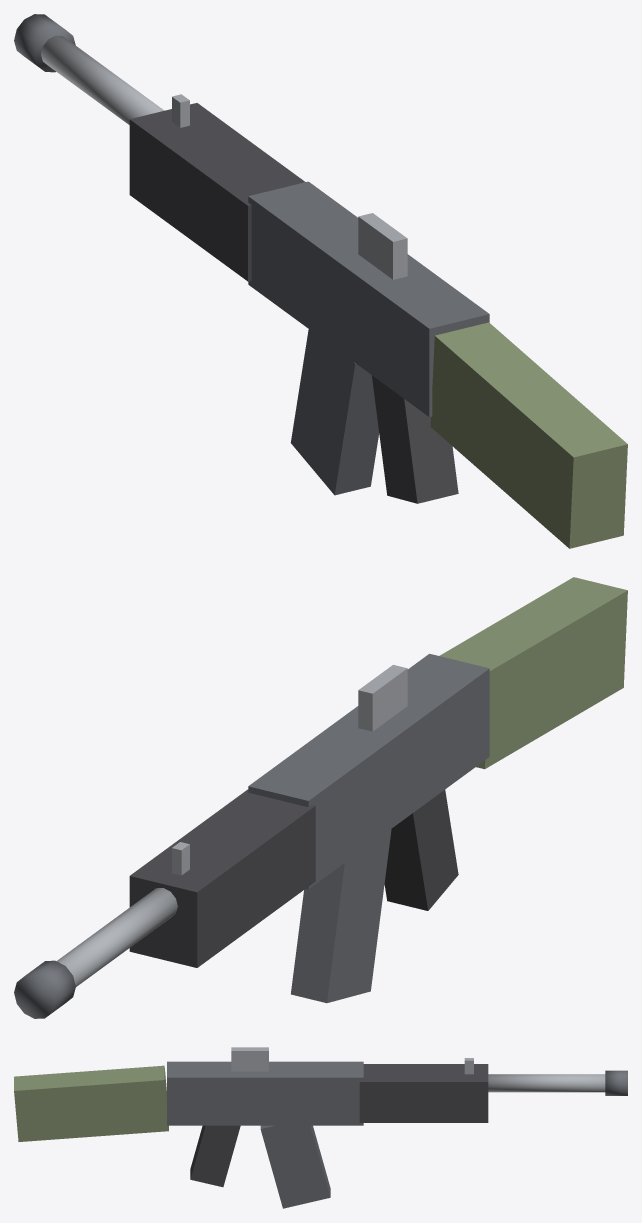
File: rifle_held.gltf
3 renders of one model, top to bottom at view 1: azimuth 30°, elevation 25°; view 2: azimuth 150°, elevation 25°; view 3: azimuth 270°, elevation 25°, orthographic. The views are drawn at different scales.
Parts seen in each view (by area): view 1: rifle_held; view 2: rifle_held; view 3: rifle_held.
Boxes of the visible parts, x1=… form: rifle_held: x1=14, y1=14, x2=627, y2=548; rifle_held: x1=14, y1=577, x2=627, y2=1018; rifle_held: x1=14, y1=1047, x2=627, y2=1208.
Bounding box in the file's own units: 0.056 × 0.2262 × 0.8127.
